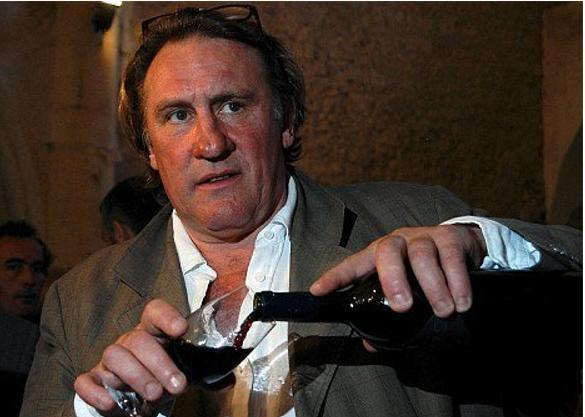Drunk: (149, 51, 271, 217)
